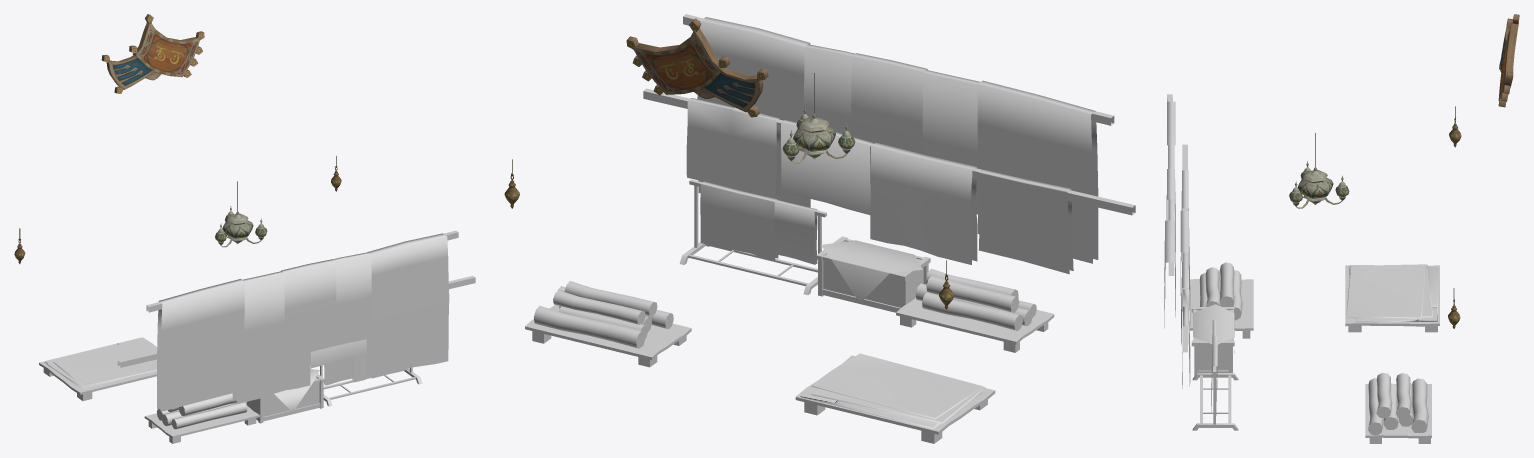
File: Homeworld_Exterior_Xm_Build_Prop_TanweiBig_01_Lod0.fbx
3 renders of one model, left to right at view 1: azimuth 30°, elevation 25°; view 2: azimuth 150°, elevation 25°; view 3: azimuth 270°, elevation 25°, orthographic. The views are drawn at different scales.
Visible parts, largest first — view 1: Area_Xm_Prop_XKC_Tanwei_18_Lod0(Clone), Area_Xm_Prop_XKC_Dpzhaopai_06_Lod0(Clone), Area_Xm_Light_XKC_Chengshidenglong_05_Lod0(Clone); view 2: Area_Xm_Prop_XKC_Tanwei_18_Lod0(Clone), Area_Xm_Prop_XKC_Dpzhaopai_06_Lod0(Clone), Area_Xm_Light_XKC_Chengshidenglong_05_Lod0(Clone); view 3: Area_Xm_Prop_XKC_Tanwei_18_Lod0(Clone), Area_Xm_Prop_XKC_Dpzhaopai_06_Lod0(Clone), Area_Xm_Light_XKC_Chengshidenglong_05_Lod0(Clone).
Boxes of the visible parts, x1=… form: Area_Xm_Prop_XKC_Tanwei_18_Lod0(Clone): x1=39, y1=230, x2=475, y2=443; Area_Xm_Prop_XKC_Dpzhaopai_06_Lod0(Clone): x1=101, y1=14, x2=204, y2=93; Area_Xm_Light_XKC_Chengshidenglong_05_Lod0(Clone): x1=221, y1=181, x2=260, y2=247; Area_Xm_Prop_XKC_Tanwei_18_Lod0(Clone): x1=525, y1=14, x2=1135, y2=443; Area_Xm_Prop_XKC_Dpzhaopai_06_Lod0(Clone): x1=626, y1=18, x2=768, y2=117; Area_Xm_Light_XKC_Chengshidenglong_05_Lod0(Clone): x1=791, y1=73, x2=846, y2=163; Area_Xm_Prop_XKC_Tanwei_18_Lod0(Clone): x1=1164, y1=94, x2=1439, y2=443; Area_Xm_Prop_XKC_Dpzhaopai_06_Lod0(Clone): x1=1498, y1=14, x2=1519, y2=107; Area_Xm_Light_XKC_Chengshidenglong_05_Lod0(Clone): x1=1296, y1=133, x2=1342, y2=208.
Size of the model in its own units: 12.86 by 10.34 by 9.7.
